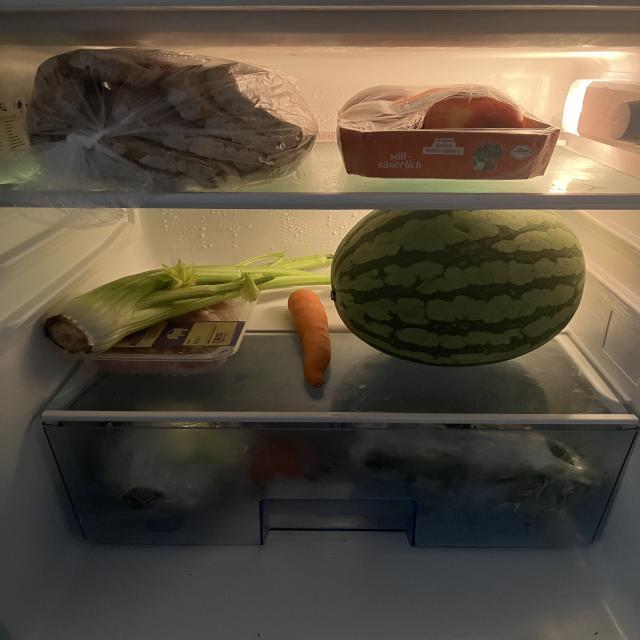Apples: (338, 81, 560, 181)
Celery: (38, 240, 330, 343)
Pork: (82, 296, 250, 376)
Vegetable: (342, 423, 594, 524), (241, 422, 313, 484)
Watermelon: (344, 202, 583, 368)
bread: (4, 45, 319, 192)
cabbage: (100, 408, 238, 516)
carrot: (289, 285, 334, 394)
